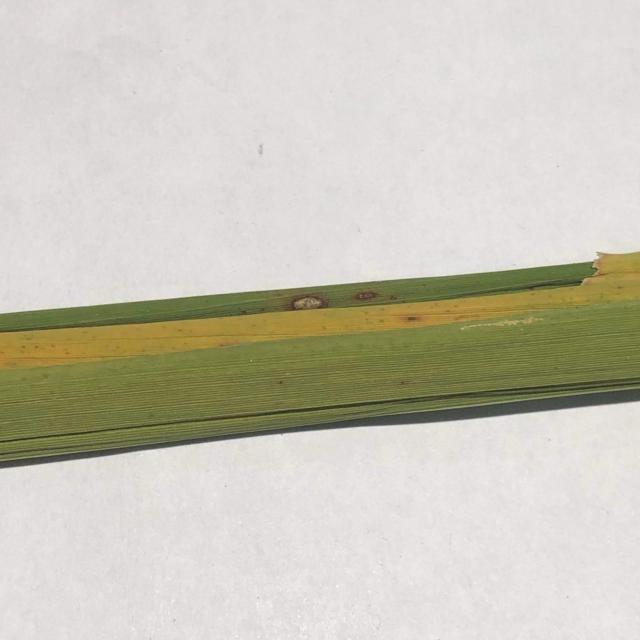Blast: (281, 292, 331, 314)
